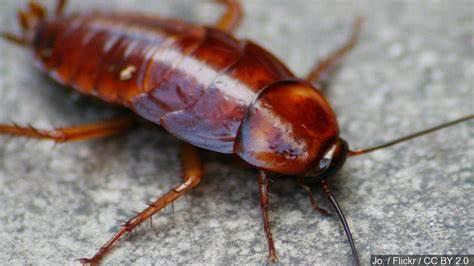cockroach: (17, 1, 358, 207)
